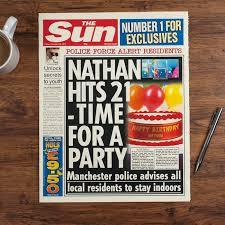Printing industry: (30, 5, 194, 205)
